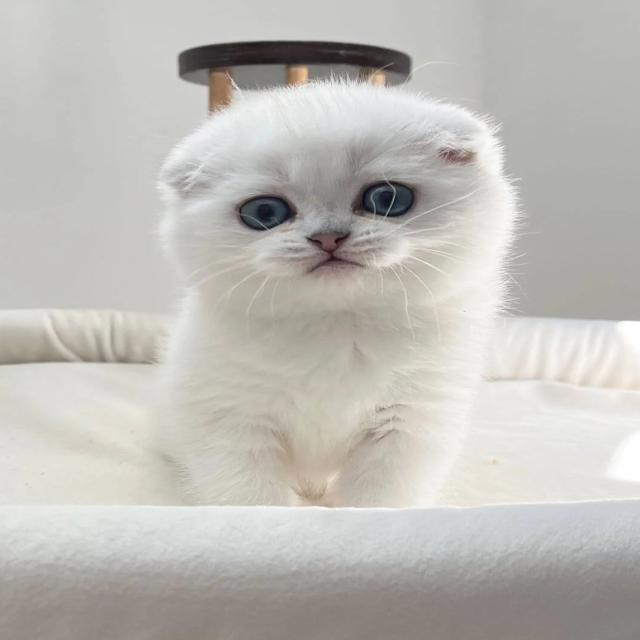Scottish Fold: (140, 73, 528, 520)
